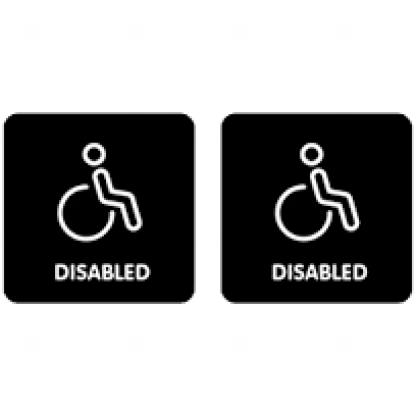toilet: (57, 137, 149, 250), (266, 144, 366, 245)
